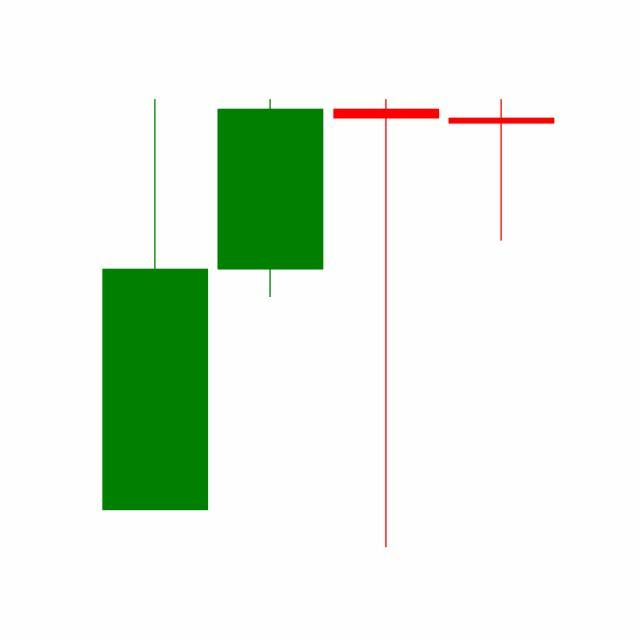Hanging Man: (444, 98, 560, 243)
